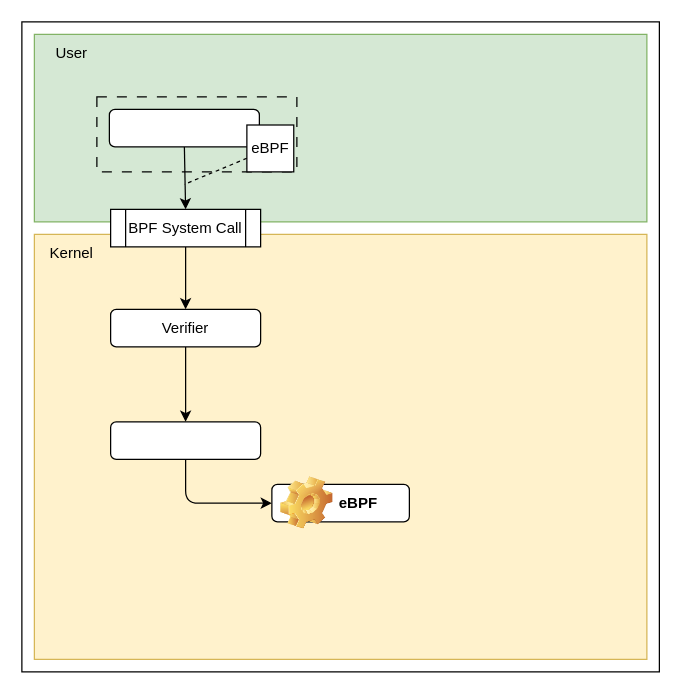
The diagram is 681 pixels wide and 694 high, and some of its shapes have lost their labels. The centre of each missing label's shape, as x and y in pixels:
"App" belongs at (x=183, y=127).
"JIT" belongs at (x=185, y=440).
